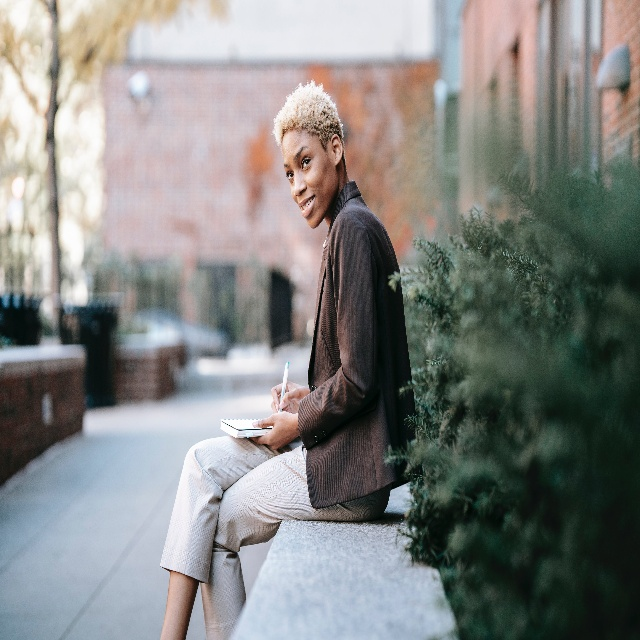Sin_guantes: (249, 411, 298, 450), (271, 380, 307, 413)
